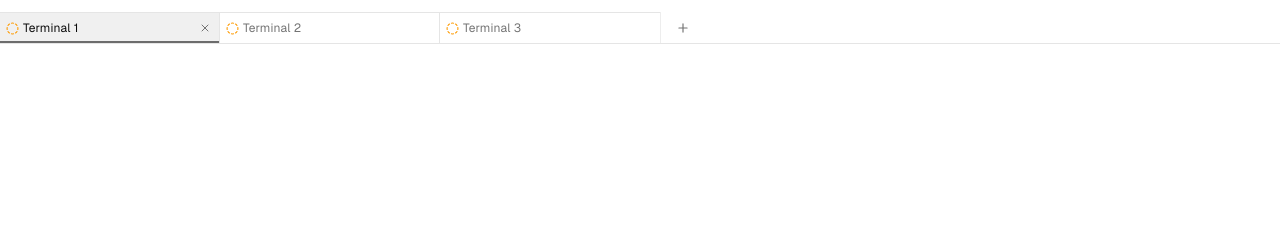
TabBar context menu › opens with the source's entries in order
The image size is (1280, 228).
Right-click the tab "Terminal 1": (110, 28) [0, 12, 220, 43]
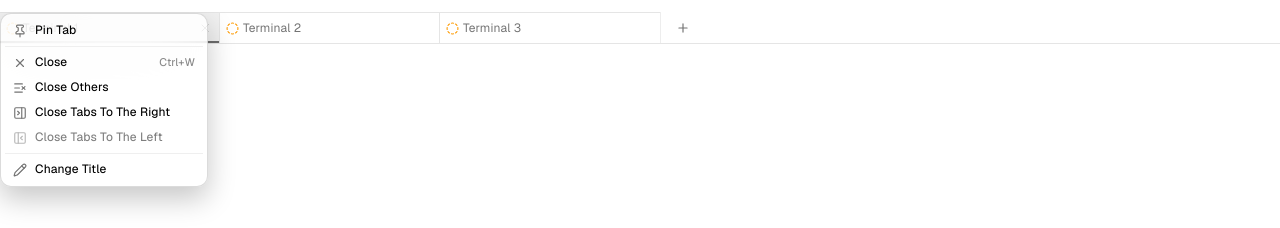
Expected: the menu items read "Pin Tab", "CloseCtrl+W", "Close Others", "Close Tabs To The Right", "Close Tabs To The Left", "Change Title", in this order, [13, 22, 76, 38]; [5, 50, 203, 75]; [13, 79, 109, 95]; [13, 104, 170, 120]; [13, 129, 163, 145]; [13, 161, 106, 177]
